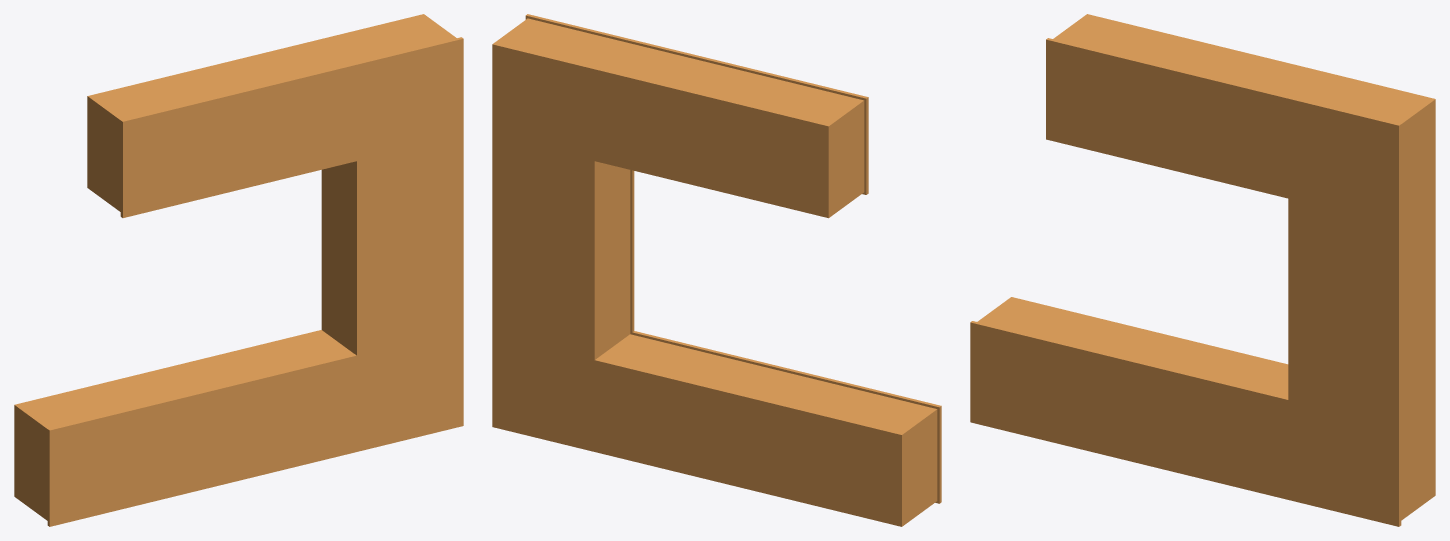
Rendered from modelo.obj.
3 renders of one model, left to right at view 1: azimuth 30°, elevation 25°; view 2: azimuth 150°, elevation 25°; view 3: azimuth 330°, elevation 25°, orthographic. The views are drawn at different scales.
Parts seen in each view (by area): view 1: frente_cornisa_1, lateral_cornisa_3, fondo_cornisa_5, frente_0, fondo_4, lateral_2; view 2: frente_0, lateral_2, fondo_4, frente_cornisa_1, fondo_cornisa_5, lateral_cornisa_3; view 3: frente_cornisa_1, lateral_cornisa_3, fondo_cornisa_5, lateral_2, frente_0, fondo_4.
Boxes of the visible parts, x1,y1,x2,y2 form: frente_cornisa_1: (47,329,463,526); lateral_cornisa_3: (354,37,463,357); fondo_cornisa_5: (120,62,361,217); frente_0: (14,330,353,520); fondo_4: (87,39,354,211); lateral_2: (321,14,456,353); frente_0: (492,334,937,526); lateral_2: (492,18,630,359); fondo_4: (594,43,864,218); frente_cornisa_1: (631,331,941,503); fondo_cornisa_5: (628,40,868,194); lateral_cornisa_3: (525,14,634,334); frente_cornisa_1: (970,321,1401,526); lateral_cornisa_3: (1288,97,1401,431); fondo_cornisa_5: (1046,38,1294,198); lateral_2: (1296,73,1435,425); frente_0: (977,297,1435,520); fondo_4: (1053,14,1329,98).
Size of the model in its own units: 28.3 by 25.3 by 4.45.
